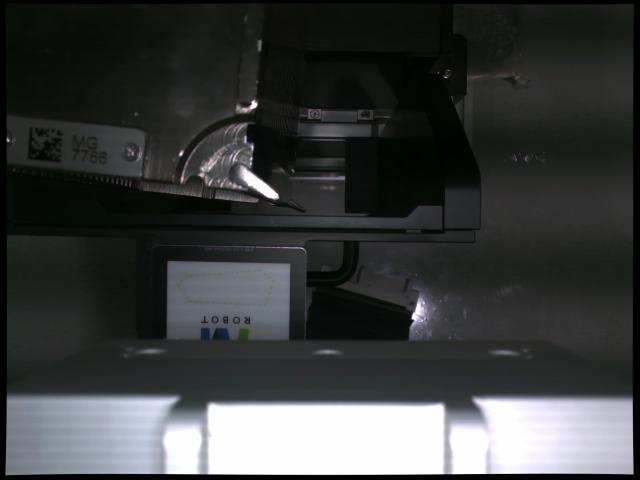jig_latch: (229, 163, 279, 200)
